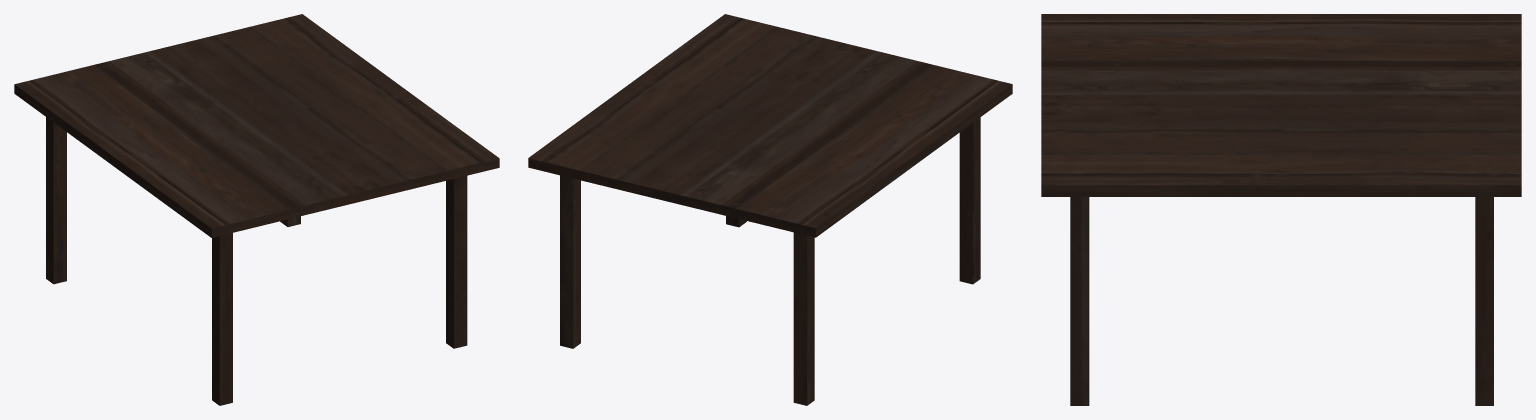
Rendered from Table.fbx.
The picture shows the model from 3 angles, left to right: view 1: azimuth 30°, elevation 25°; view 2: azimuth 150°, elevation 25°; view 3: azimuth 270°, elevation 25°; orthographic projection. The views are drawn at different scales.
Visible parts, largest first — view 1: Table; view 2: Table; view 3: Table.
Part boxes in pixels (x1,y1,x2,y2): Table: [14, 14, 499, 405]; Table: [528, 14, 1012, 405]; Table: [1041, 14, 1521, 405].
Bounding box in the file's own units: 302 × 192 × 358.
1 material, 1 textured.
